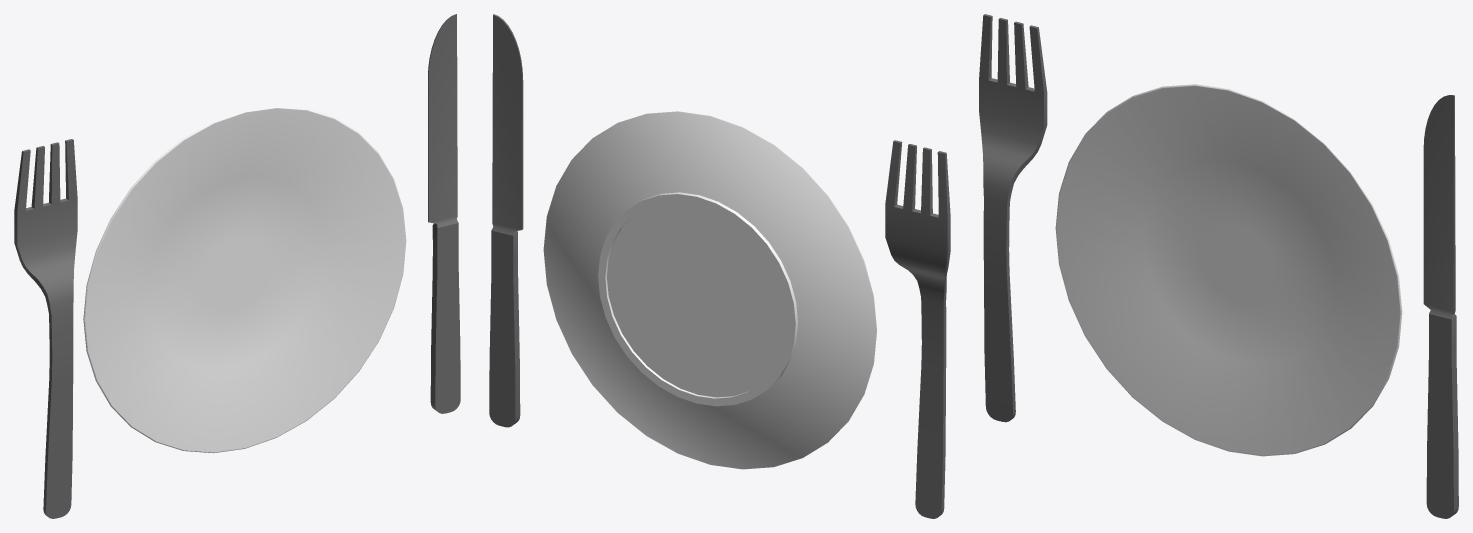
Rendered from fork_and_knife_with_plate.glb.
3 views of the same model, side by side, from view 1: azimuth 30°, elevation 25°; view 2: azimuth 150°, elevation 25°; view 3: azimuth 330°, elevation 25° (orthographic). The views are drawn at different scales.
Visible parts, largest first — view 1: Circle.2319; view 2: Circle.2319; view 3: Circle.2319.
Boxes of the visible parts, x1,y1,x2,y2 form: Circle.2319: (14,14,460,518); Circle.2319: (489,14,950,518); Circle.2319: (979,14,1458,518).
Size of the model in its own units: 1.99 by 1.7 by 0.241.
Materials: 1 (1 with a texture image).
